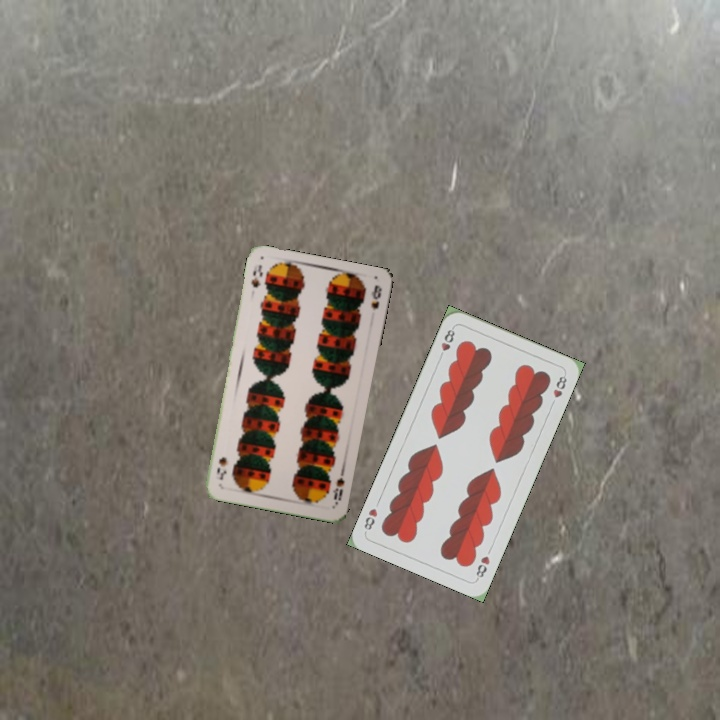H8: (435, 323, 458, 362), (472, 552, 492, 583)
S8: (328, 467, 347, 507), (247, 261, 265, 290)
